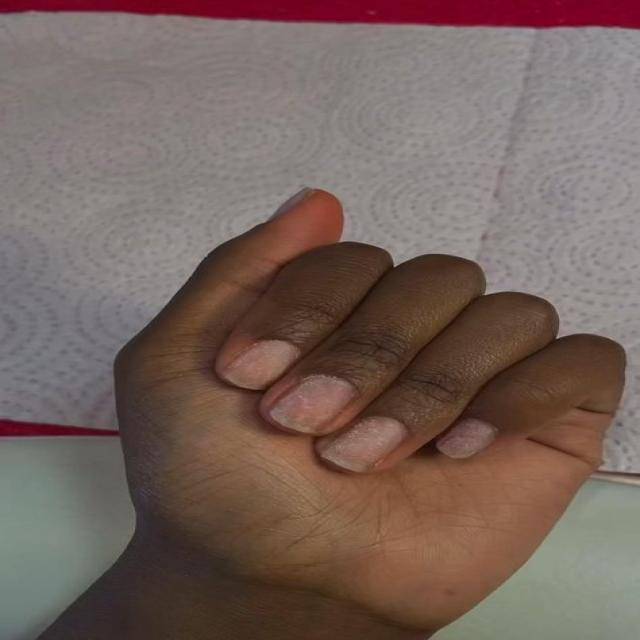Fingernail: (270, 374, 359, 435), (321, 417, 409, 473), (223, 340, 302, 390), (438, 417, 498, 458)
